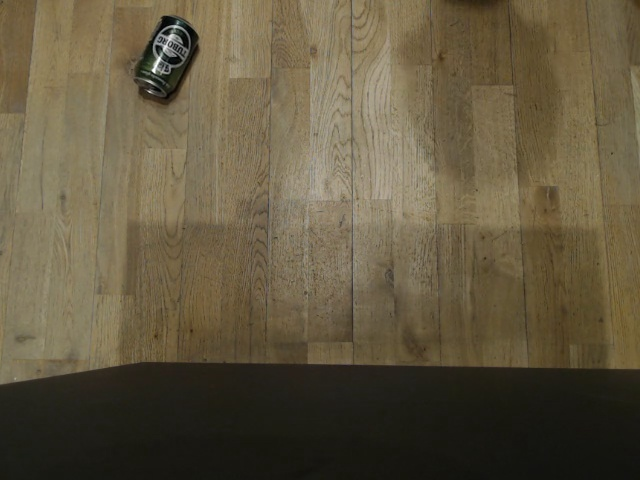beer: (131, 11, 201, 104)
